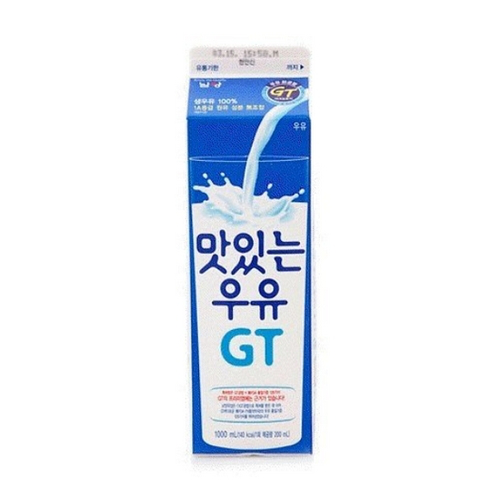milk: (185, 48, 315, 456)
